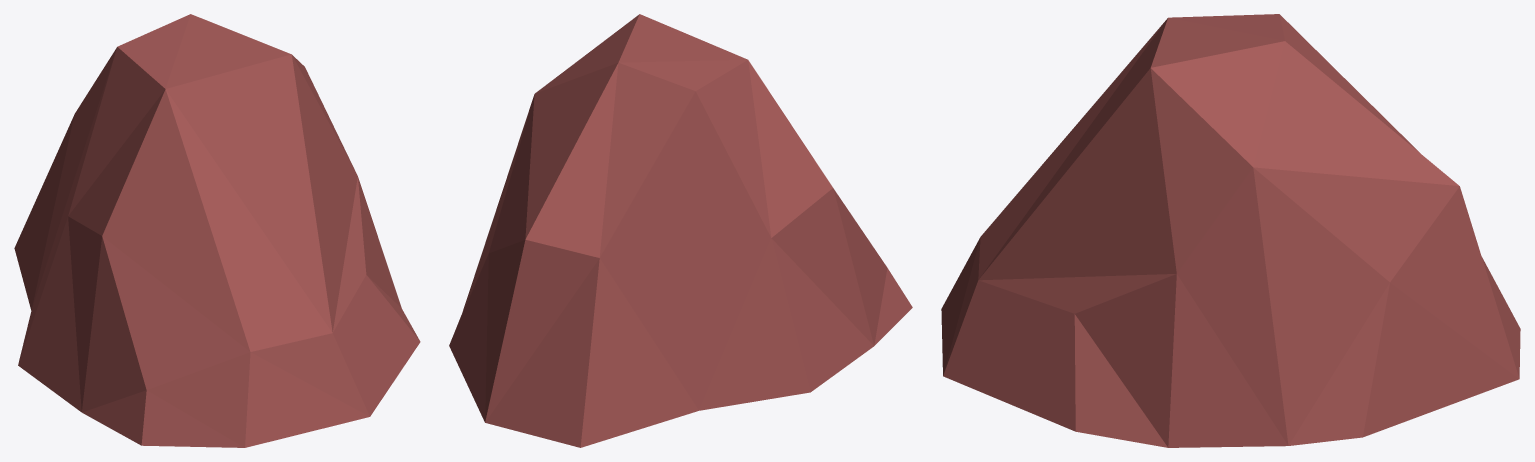
Rendered from removableRock1.fbx.
The picture shows the model from 3 angles, left to right: view 1: azimuth 30°, elevation 25°; view 2: azimuth 150°, elevation 25°; view 3: azimuth 270°, elevation 25°; orthographic projection. The views are drawn at different scales.
Visible parts, largest first — view 1: Cube.008; view 2: Cube.008; view 3: Cube.008.
Boxes of the visible parts, x1,y1,x2,y2 form: Cube.008: (14, 14, 420, 447); Cube.008: (449, 14, 912, 447); Cube.008: (941, 14, 1520, 447).
Bounding box in the file's own units: 489 × 407 × 653.
